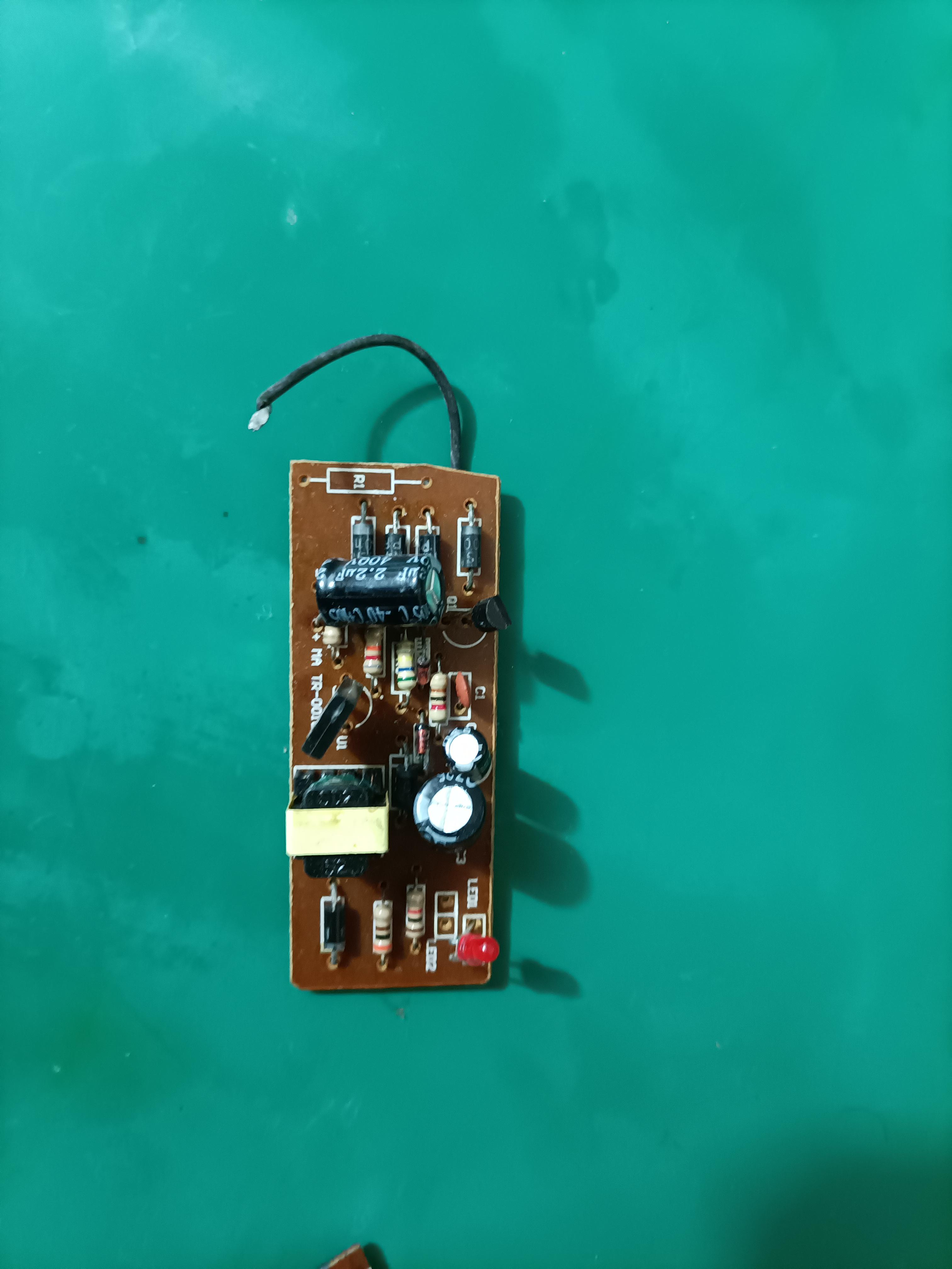LED: (456, 931, 504, 973)
Resistencia: (391, 634, 420, 699), (361, 619, 389, 682), (369, 896, 395, 961), (403, 879, 424, 942), (430, 670, 448, 731), (321, 620, 348, 657)
